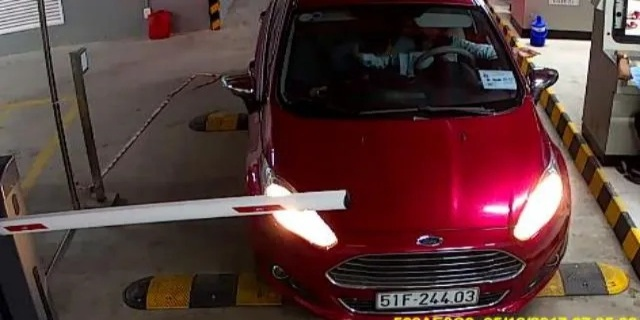bien_so: (378, 289, 478, 308)
